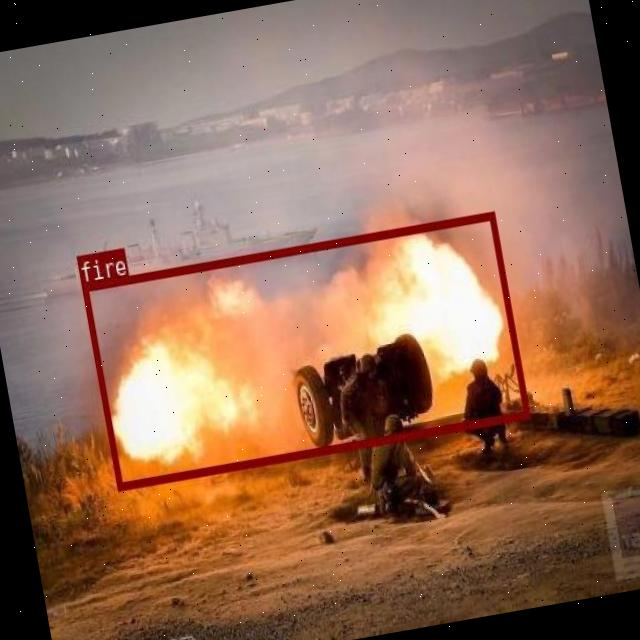fire: (80, 211, 529, 488)
